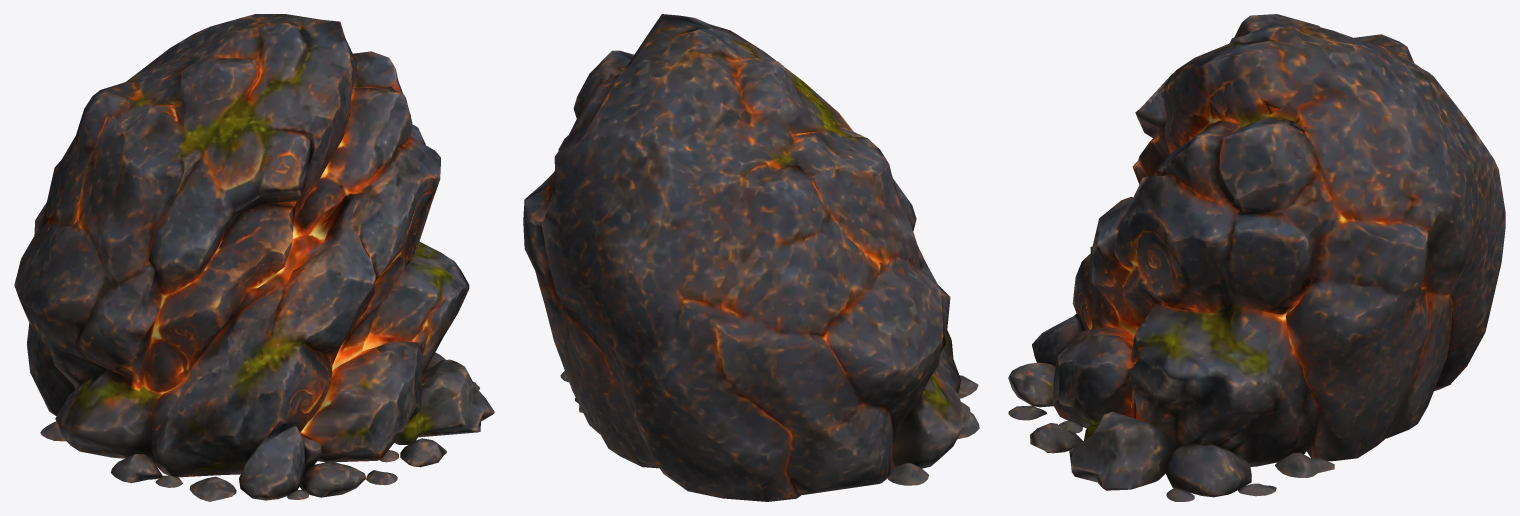
Rendered from ureisen.glb.
3 renders of one model, left to right at view 1: azimuth 30°, elevation 25°; view 2: azimuth 150°, elevation 25°; view 3: azimuth 270°, elevation 25°, orthographic. The views are drawn at different scales.
Parts seen in each view (by area): view 1: baum; view 2: baum; view 3: baum.
Boxes of the visible parts, left/top/right/bottom form: baum: left=14, top=14, right=494, bottom=501; baum: left=523, top=14, right=979, bottom=501; baum: left=1008, top=14, right=1505, bottom=501.
Size of the model in its own units: 1.77 by 1.6 by 1.82.
1 material, 1 textured.
